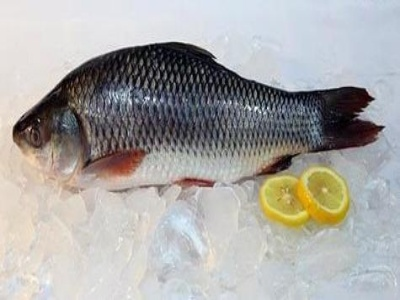rohu: (5, 33, 393, 194)
